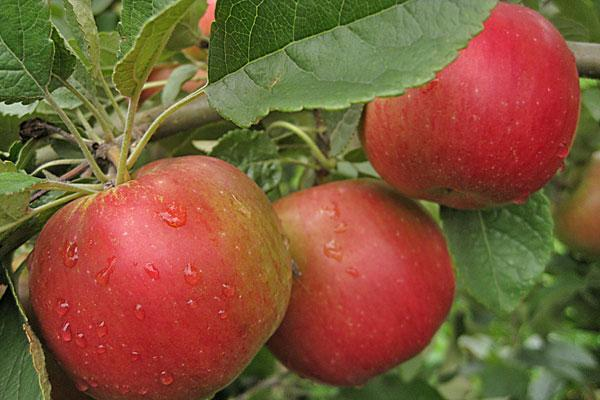apple: (23, 154, 300, 397), (357, 4, 576, 207), (261, 177, 458, 385)
